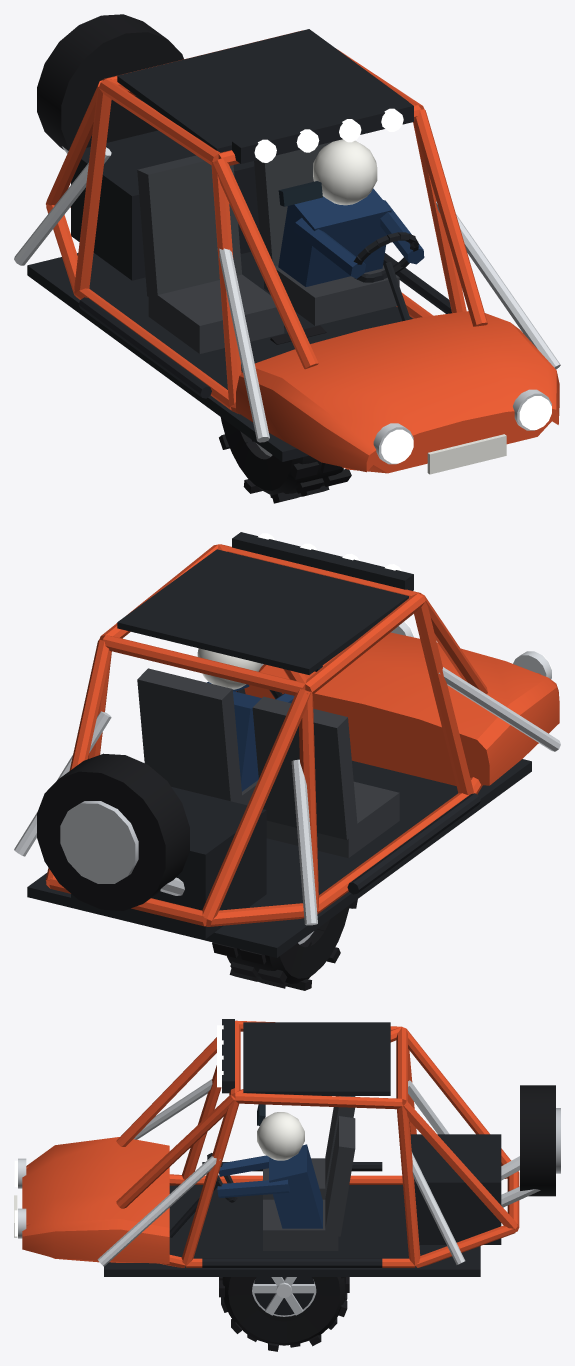
Rendered from buggy.glb.
3 renders of one model, top to bottom at view 1: azimuth 30°, elevation 25°; view 2: azimuth 150°, elevation 25°; view 3: azimuth 270°, elevation 25°, orthographic. The views are drawn at different scales.
Visible parts, largest first — view 1: body, wheel; view 2: body, wheel; view 3: body, wheel.
Part boxes in pixels (left/top/right/bottom): body: left=14, top=14, right=560, bottom=474; wheel: left=219, top=325, right=351, bottom=503; body: left=14, top=532, right=560, bottom=957; wheel: left=212, top=899, right=357, bottom=990; body: left=14, top=1019, right=560, bottom=1276; wheel: left=219, top=1277, right=349, bottom=1351.
Size of the model in its own units: 1.58 by 1.97 by 3.34.
